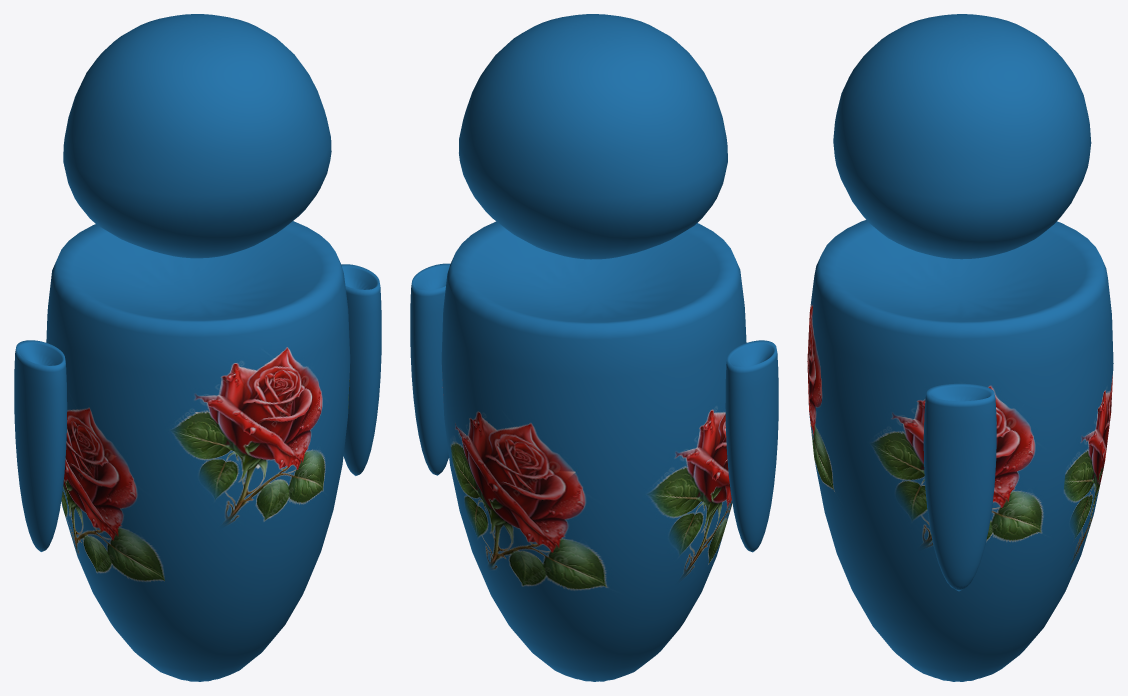
File: evee.glb
3 renders of one model, left to right at view 1: azimuth 30°, elevation 25°; view 2: azimuth 150°, elevation 25°; view 3: azimuth 270°, elevation 25°, orthographic.
Visible parts, largest first — view 1: eeve; view 2: eeve; view 3: eeve.
Part boxes in pixels (x1,y1,x2,y2): eeve: (14,14,381,681); eeve: (410,14,778,681); eeve: (807,14,1113,681).
Size of the model in its own units: 1.66 by 2.91 by 1.25.
1 material, 1 textured.
